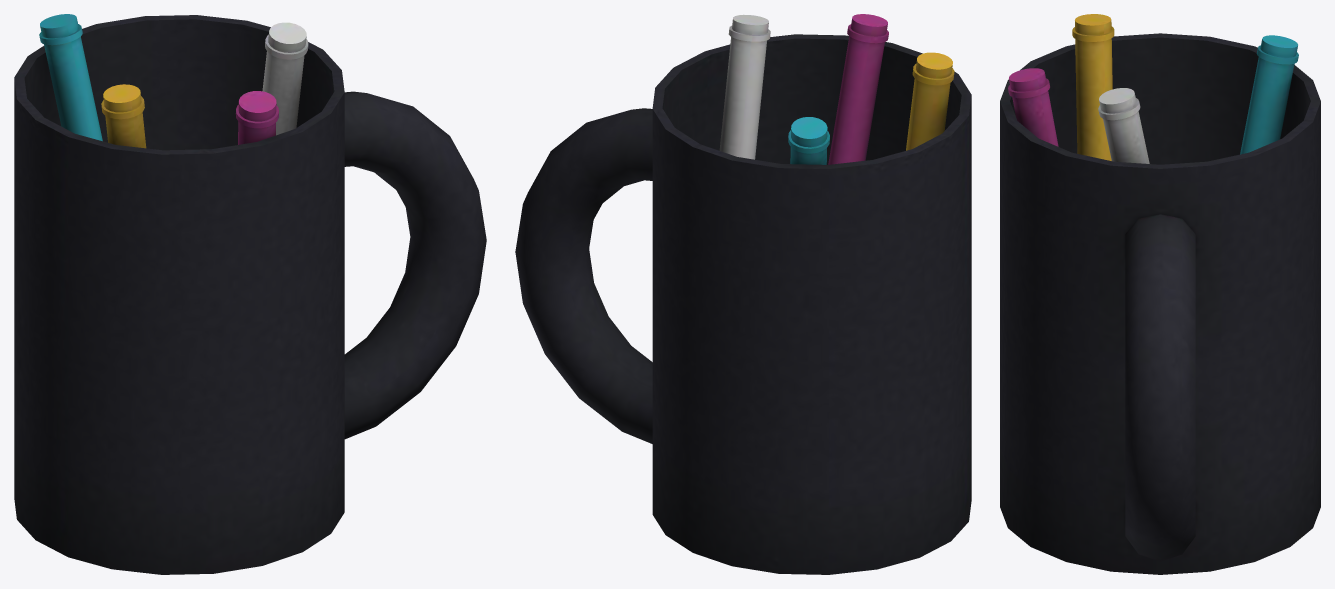
File: mug-pencils-v1.glb
3 views of the same model, side by side, from view 1: azimuth 30°, elevation 25°; view 2: azimuth 150°, elevation 25°; view 3: azimuth 270°, elevation 25° (orthographic). The views are drawn at different scales.
Parts seen in each view (by area): view 1: mug_pencils; view 2: mug_pencils; view 3: mug_pencils.
Boxes of the visible parts, x1,y1,x2,y2 form: mug_pencils: (14,14,486,574); mug_pencils: (515,14,971,574); mug_pencils: (1000,14,1320,574).
Bounding box in the file's own units: 0.1889 × 0.1904 × 0.1218.
1 material, 1 textured.
